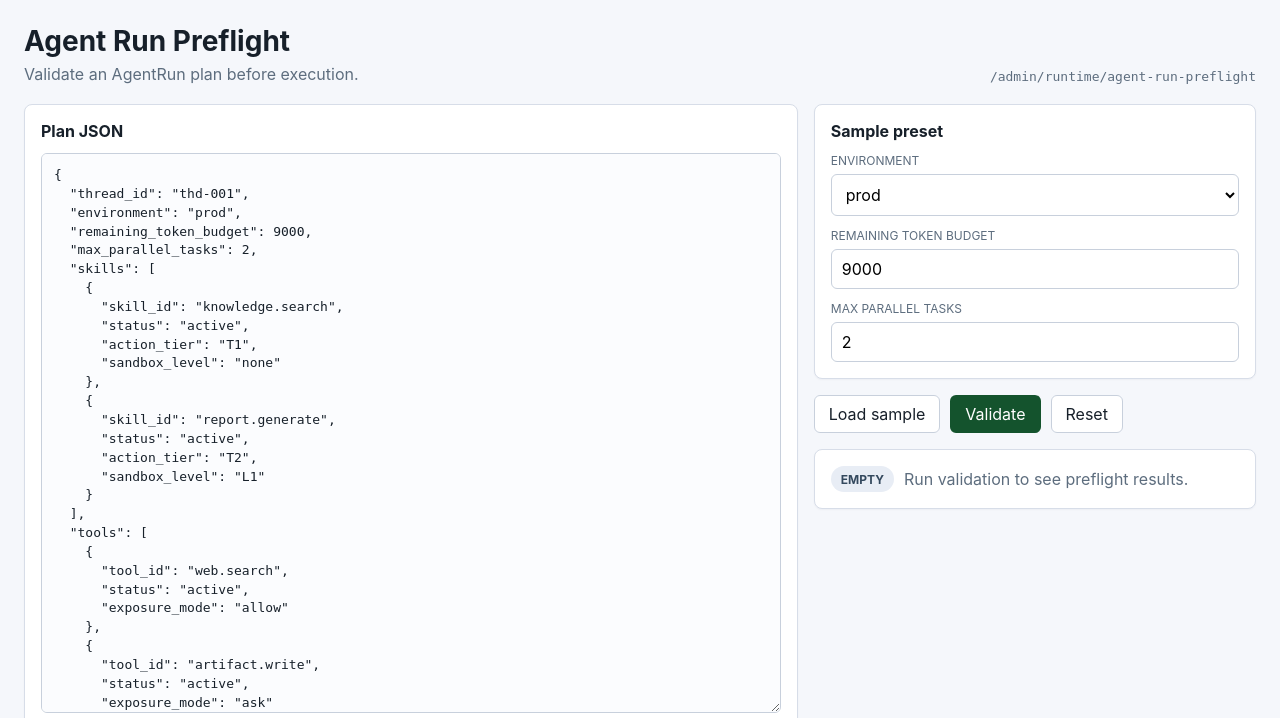
Test: AgentRunPreflightPage › shows blocked errors
The image size is (1280, 718).
Click the button "Validate" at [995, 414], box [950,395,1040,433]
(page scrolled)
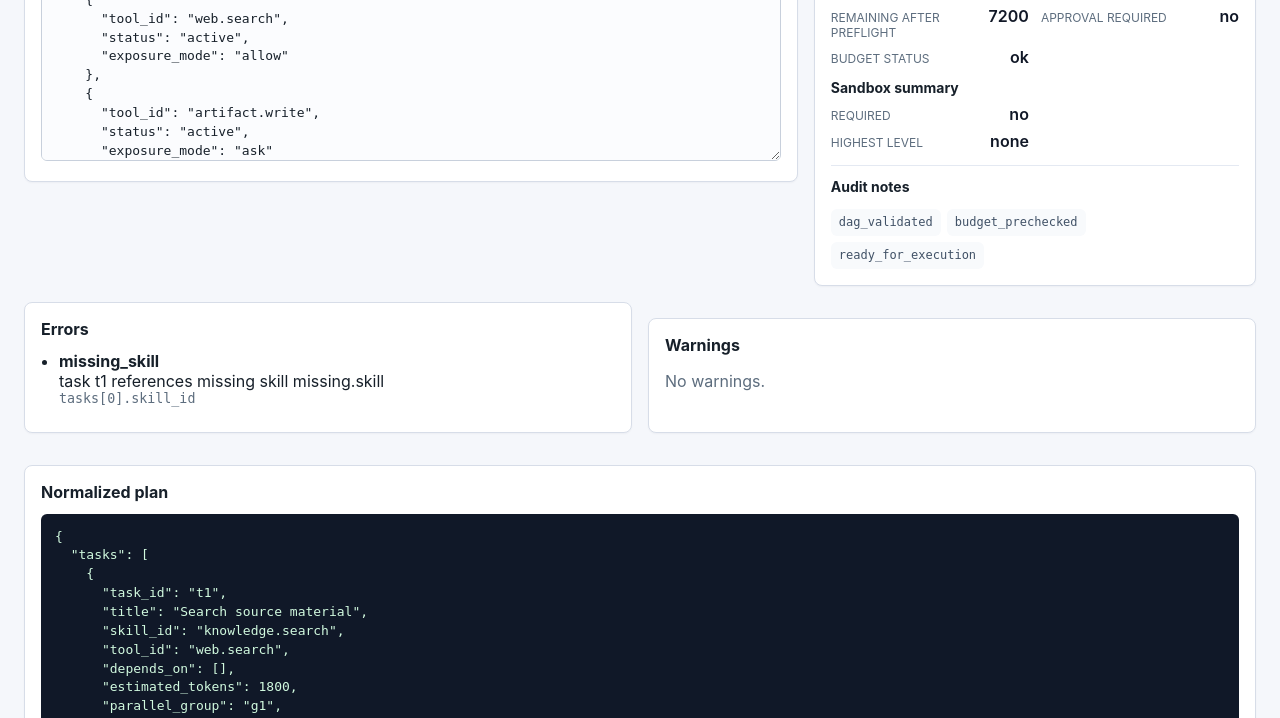
Check: the text "missing_skill" is shown, box [59,351,159,371]
